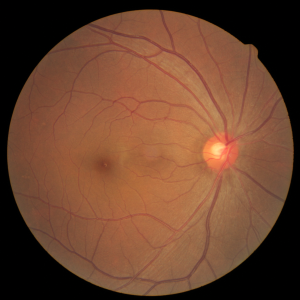healthy_eye: (48, 93, 270, 209)
